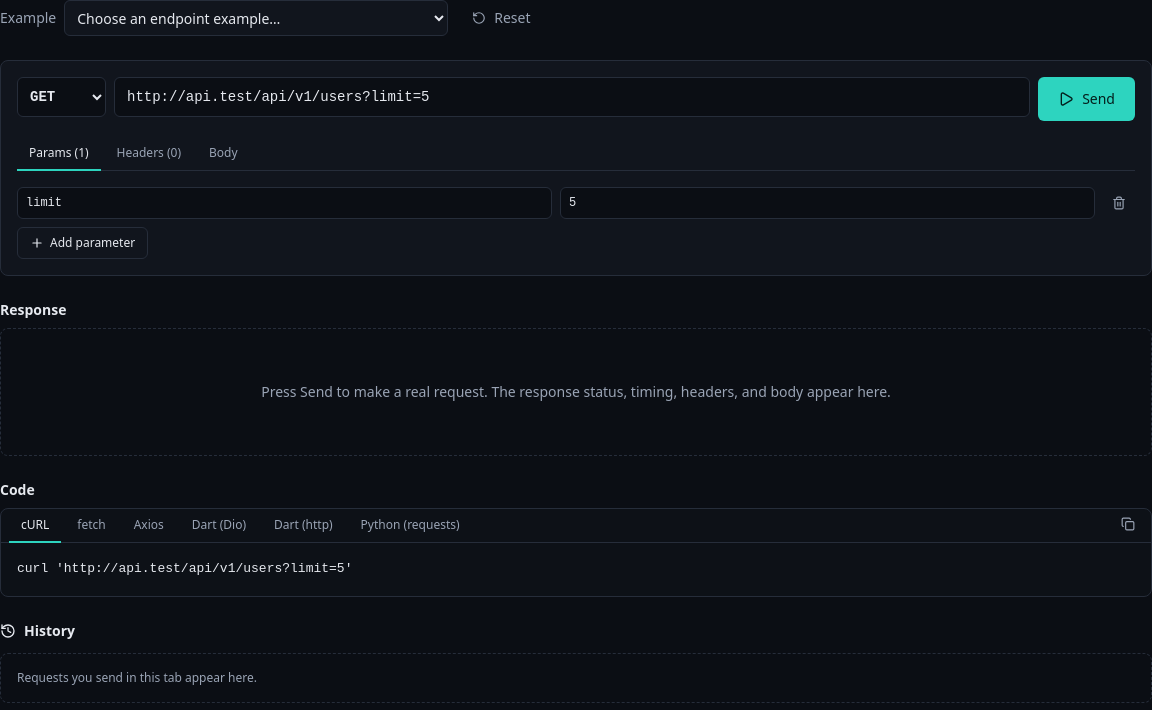
it: Playground › sends the JSON body and generates matching code
The width and height of the screenshot is (1152, 710).
Select "POST /posts - Create a post" in the dropdown labelled "Example" at [256, 18], box [64,0,448,36]
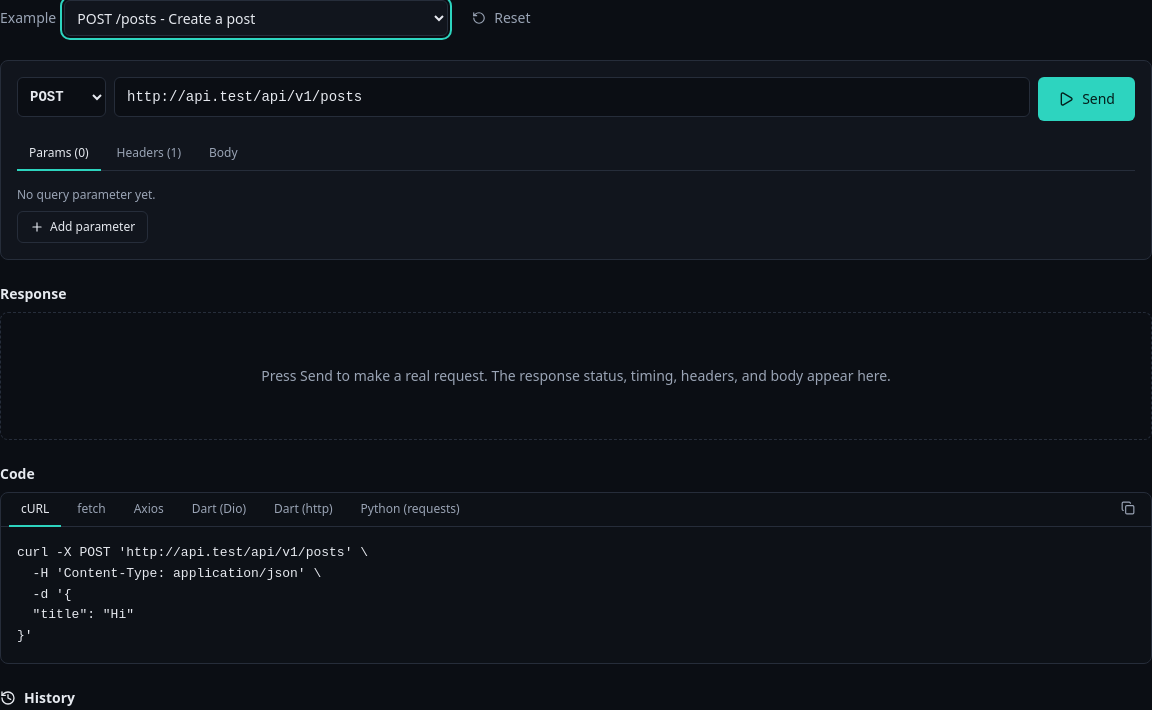
Check: the panel "curl" shows "\"title\": \"Hi\"", box [17,545,368,643]
Click the tab "Python (requests)" at [410, 510], box [349,493,472,527]
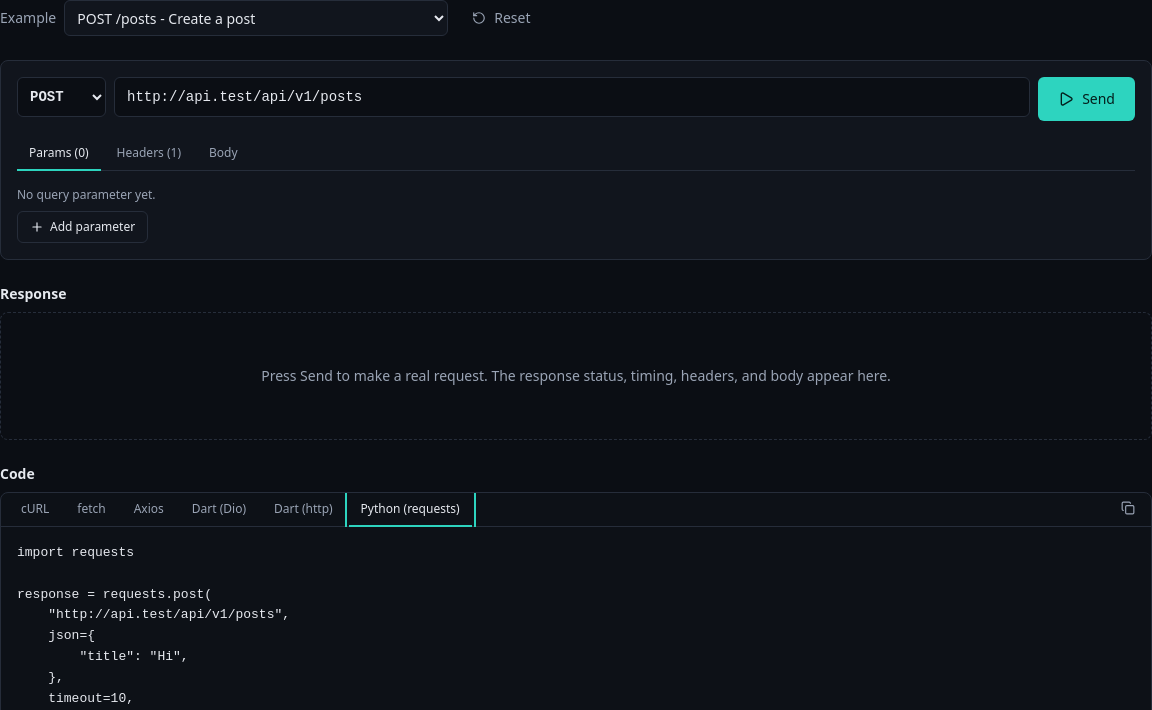
Click the button "Send" at [1087, 99], box [1038,77,1135,121]
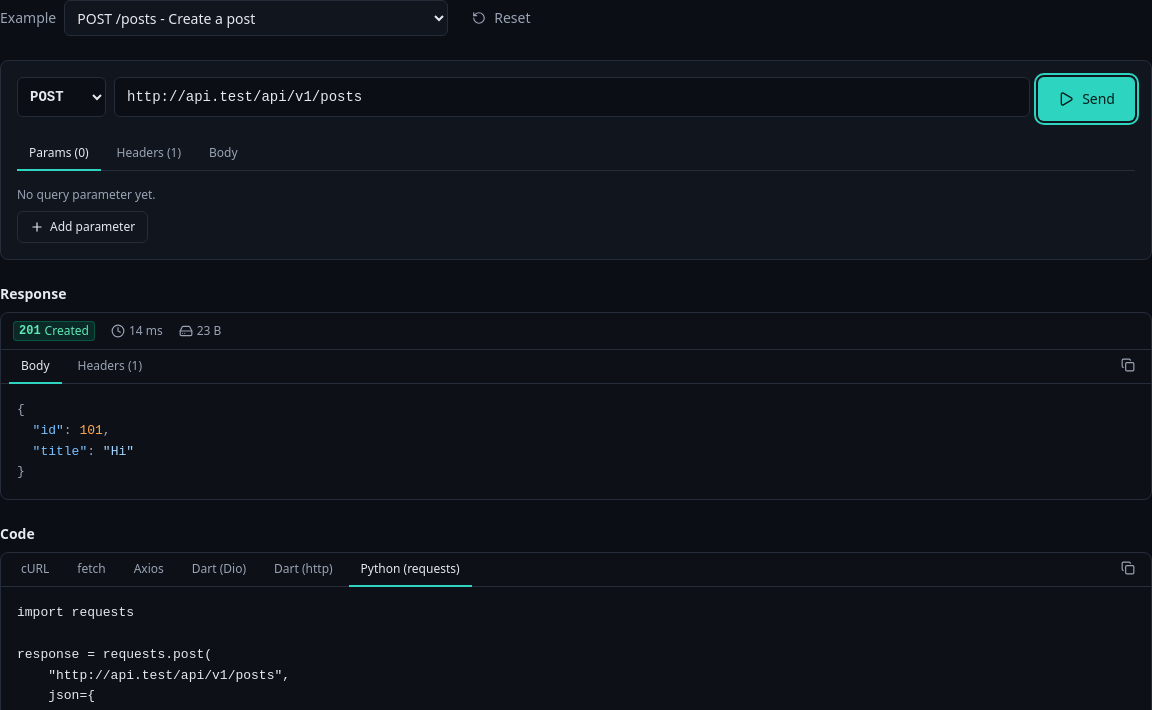
Check: the text "101" is shown, box [80,423,103,438]
